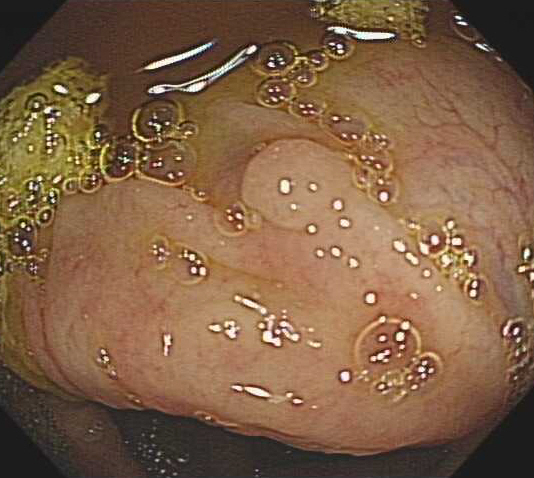others: (238, 135, 368, 234)
